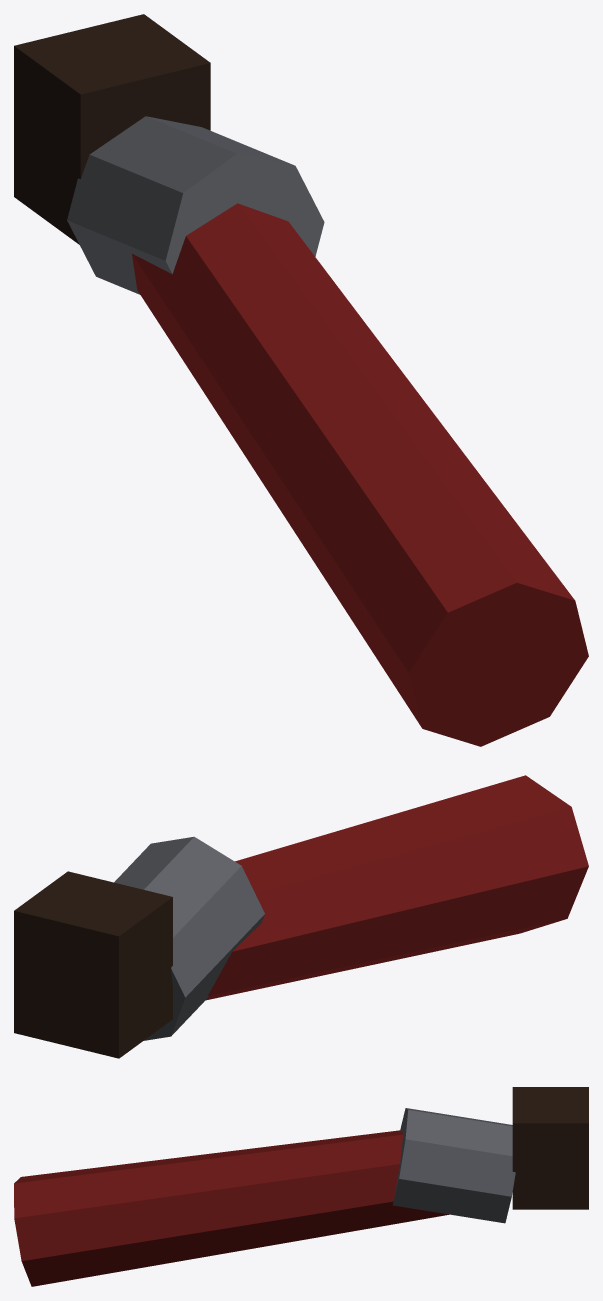
Rendered from fp_arm_l.glb.
3 renders of one model, top to bottom at view 1: azimuth 30°, elevation 25°; view 2: azimuth 150°, elevation 25°; view 3: azimuth 270°, elevation 25°, orthographic. The views are drawn at different scales.
Parts seen in each view (by area): view 1: fp_arm; view 2: fp_arm; view 3: fp_arm.
Part boxes in pixels (x1,y1,x2,y2): fp_arm: (14,14,588,746); fp_arm: (14,775,588,1058); fp_arm: (14,1087,588,1286).
Size of the model in its own units: 0.1645 by 0.2284 by 0.603.
